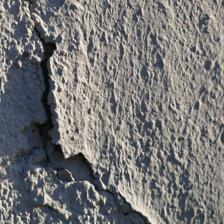Crack: (17, 14, 133, 208)
